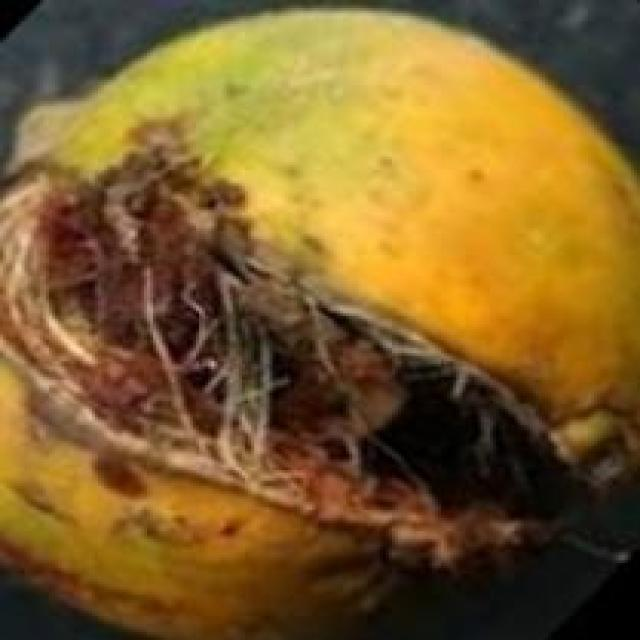damaged: (0, 8, 637, 637)
